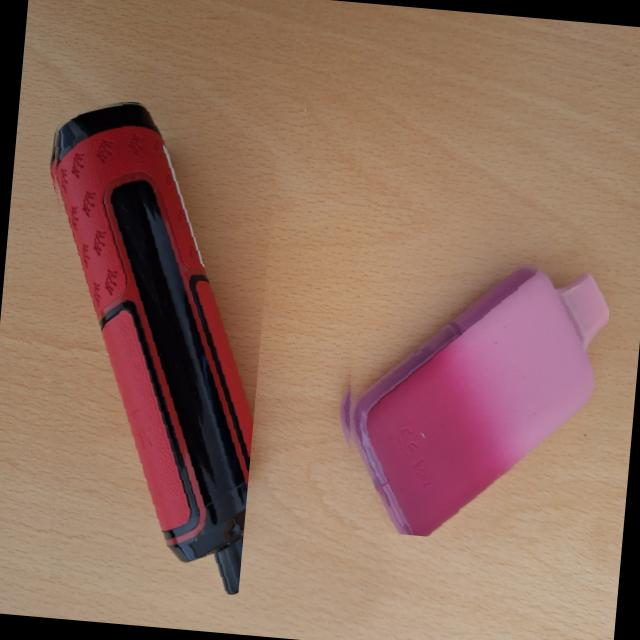Hazard: (12, 94, 278, 596), (328, 247, 612, 550)
